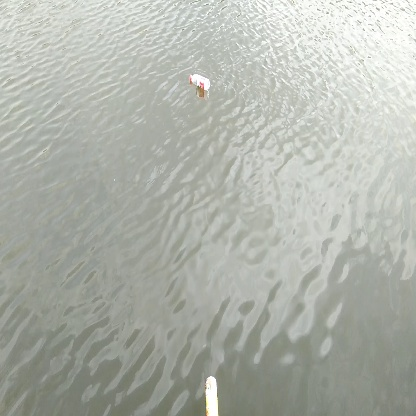bottle: (184, 64, 217, 97)
